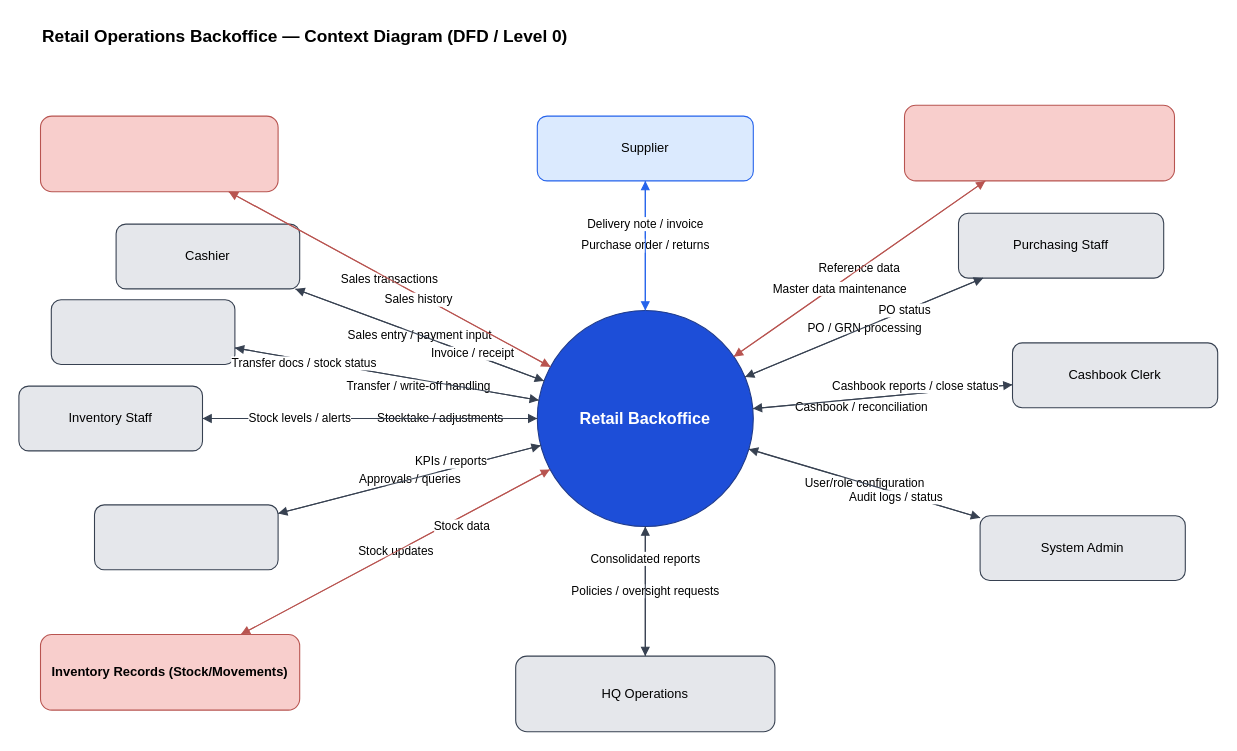
The diagram is 1237 pixels wide and 751 high, and some of its shapes have lost their labels. The shapes that lost their labels are listed below. From the top down, each one's centre as x and y in pixels, then its label:
At point (158, 153): "Sales Ledger (Invoices/Receipts)".
At point (1038, 142): "Master Data (Products/Suppliers/Users)".
At point (142, 331): "Warehouse Staff".
At point (185, 537): "Branch Manager".
